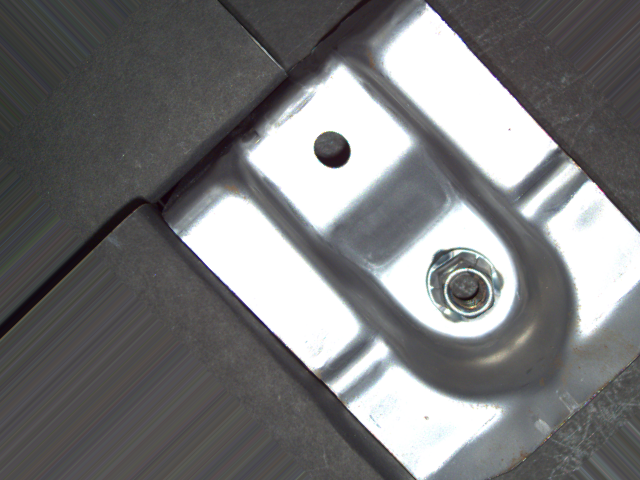good: (420, 243, 508, 329)
